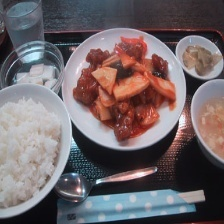rice: (0, 91, 63, 211)
